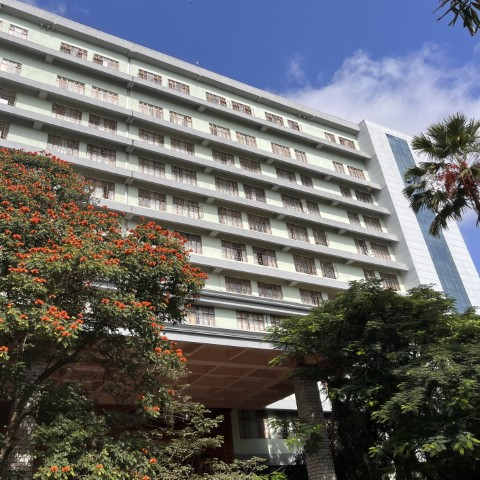Central Block: (1, 7, 473, 298)
